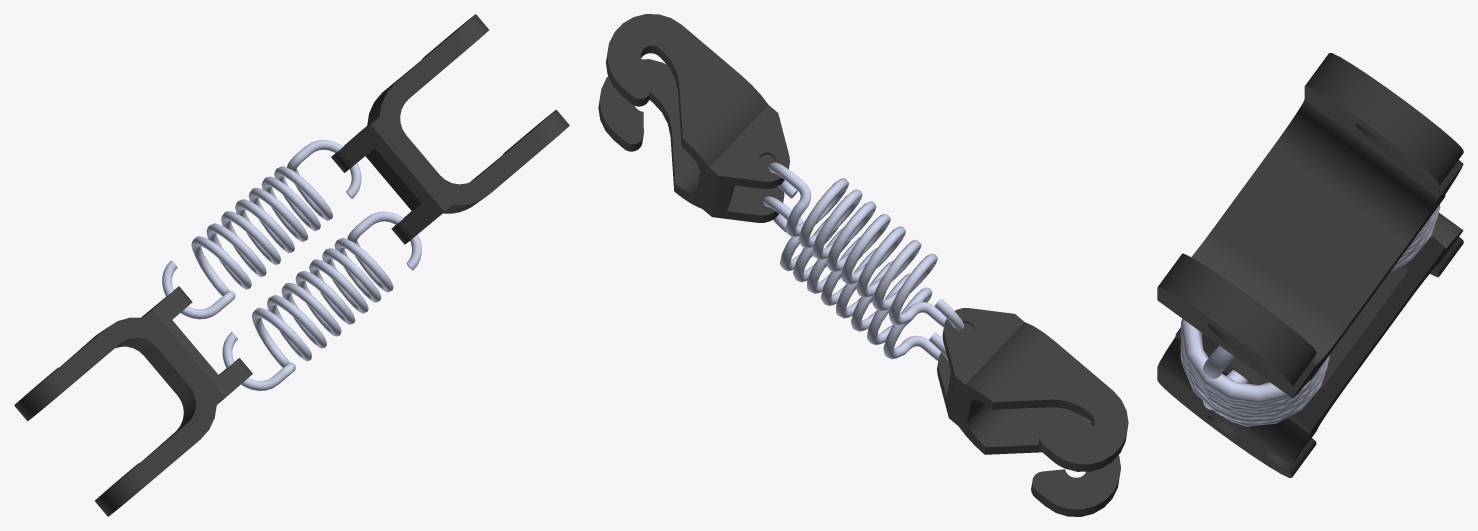
3 renders of one model, left to right at view 1: azimuth 30°, elevation 25°; view 2: azimuth 150°, elevation 25°; view 3: azimuth 270°, elevation 25°, orthographic. The views are drawn at different scales.
Parts seen in each view (by area): view 1: IRB360_6-1600-STD-4D_rev03_LA3_CL_CAD; view 2: IRB360_6-1600-STD-4D_rev03_LA3_CL_CAD; view 3: IRB360_6-1600-STD-4D_rev03_LA3_CL_CAD.
Boxes of the visible parts, x1,y1,x2,y2 form: IRB360_6-1600-STD-4D_rev03_LA3_CL_CAD: [14, 14, 569, 516]; IRB360_6-1600-STD-4D_rev03_LA3_CL_CAD: [598, 14, 1128, 516]; IRB360_6-1600-STD-4D_rev03_LA3_CL_CAD: [1157, 53, 1463, 477].
Bounding box in the file's own units: 0.1142 × 0.082 × 0.0294.
